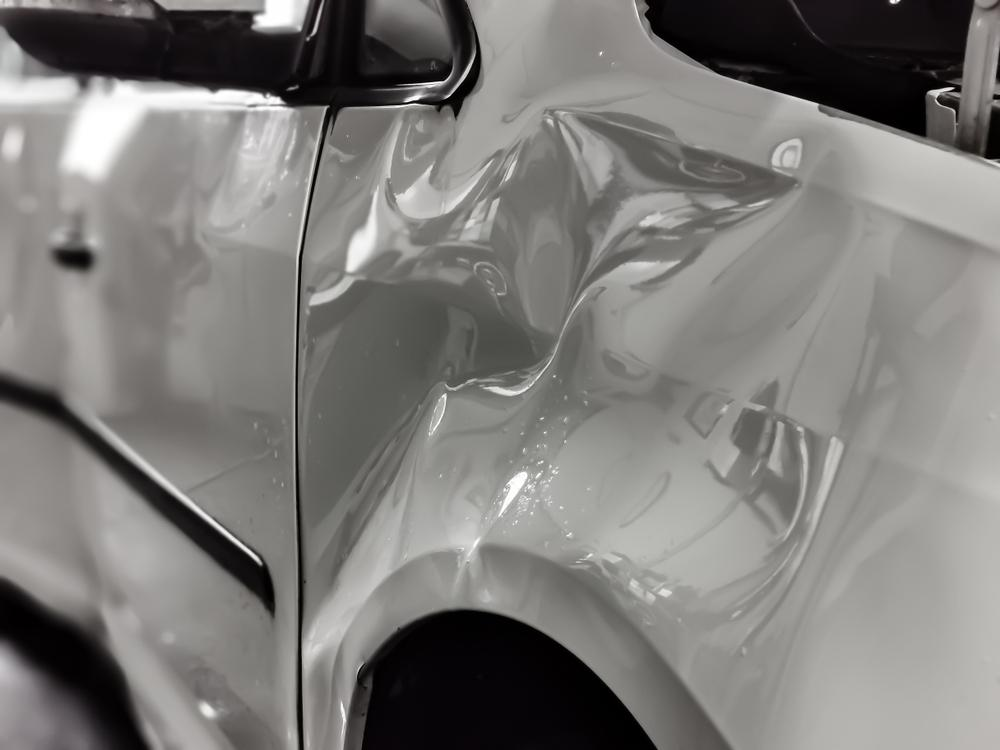dent: (302, 111, 863, 645)
